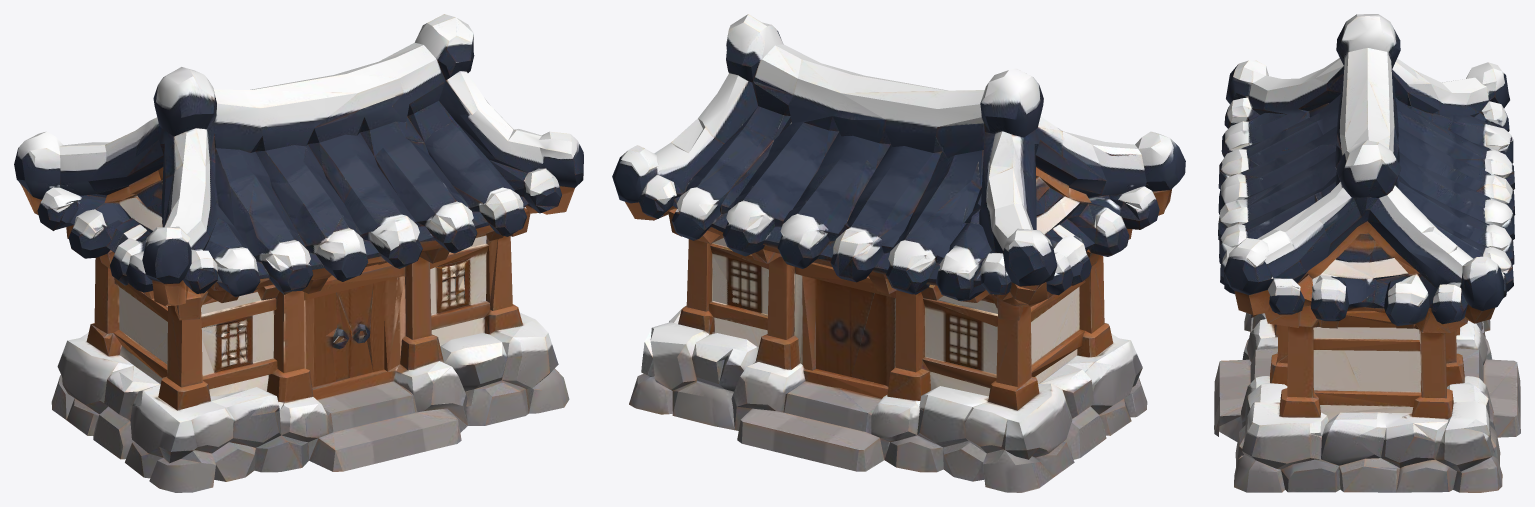
The model's file is hanokHall.glb.
The picture shows the model from 3 angles, left to right: view 1: azimuth 30°, elevation 25°; view 2: azimuth 150°, elevation 25°; view 3: azimuth 270°, elevation 25°; orthographic projection. The views are drawn at different scales.
Visible parts, largest first — view 1: Mesh_0; view 2: Mesh_0; view 3: Mesh_0.
Boxes of the visible parts, x1=… form: Mesh_0: x1=14, y1=14, x2=583, y2=492; Mesh_0: x1=612, y1=14, x2=1185, y2=492; Mesh_0: x1=1214, y1=14, x2=1520, y2=492.
Size of the model in its own units: 2 by 1.57 by 1.31.
1 material, 1 textured.
